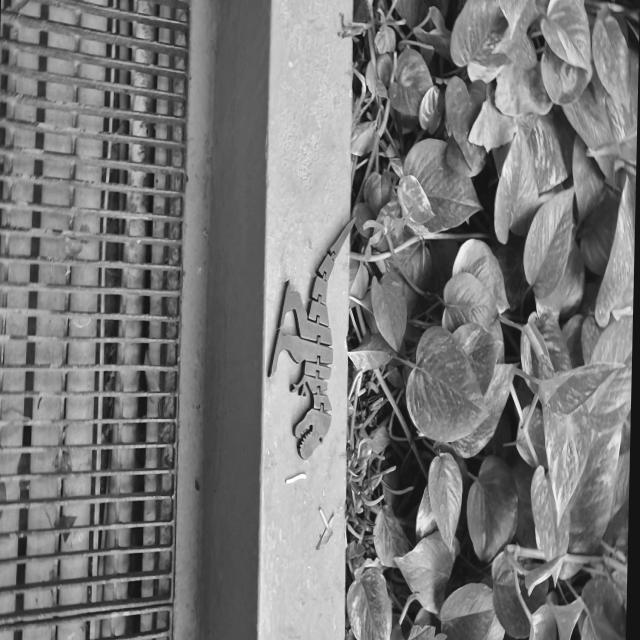dino: (263, 216, 357, 462)
